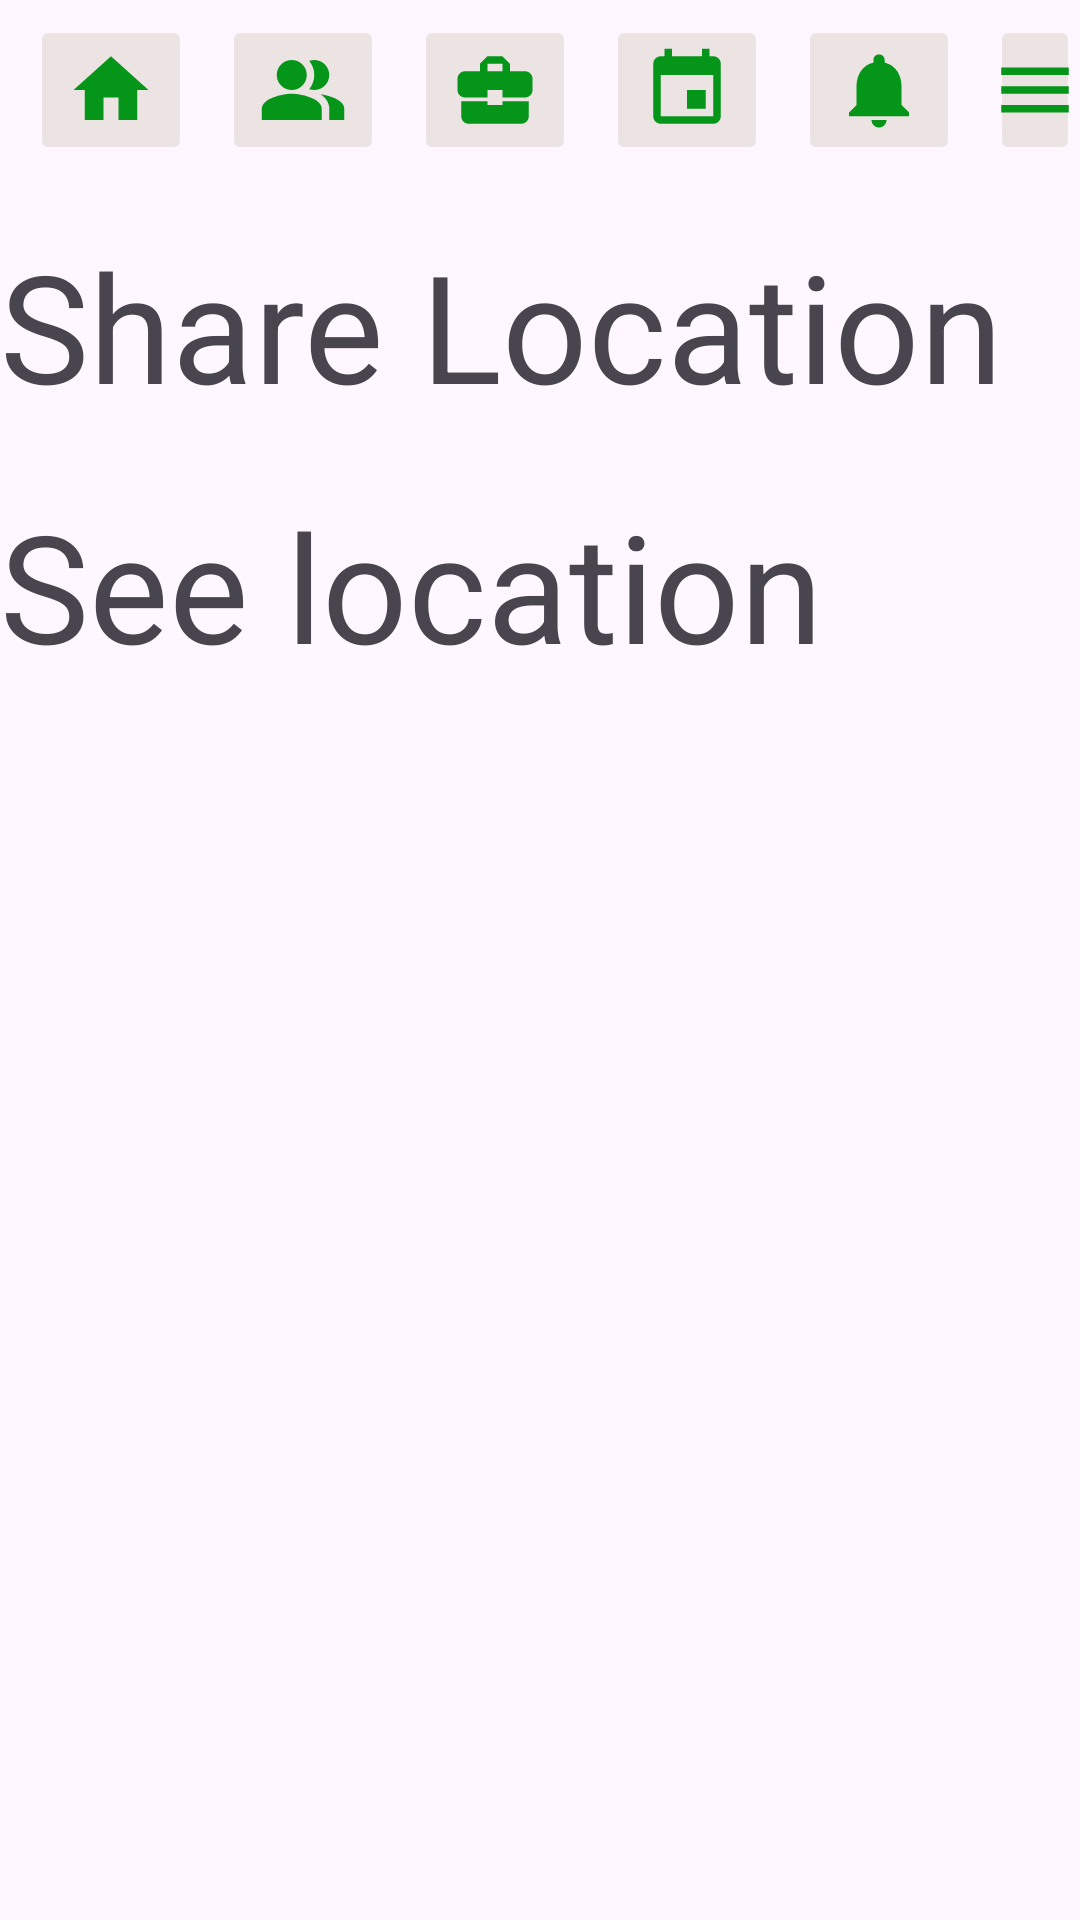

Icons on this 1080w x 1920h Android screen, each with its box as {"left": x1, "top": y1, "right": x2, "bottom": y2}:
business center: {"left": 426, "top": 33, "right": 564, "bottom": 147}
event: {"left": 618, "top": 33, "right": 756, "bottom": 147}
home: {"left": 42, "top": 33, "right": 180, "bottom": 147}
menu: {"left": 1001, "top": 33, "right": 1069, "bottom": 147}
notifications: {"left": 810, "top": 33, "right": 948, "bottom": 147}
people: {"left": 234, "top": 33, "right": 372, "bottom": 147}
